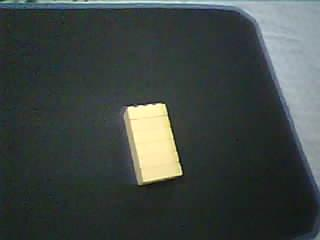lego: (122, 102, 183, 186)
